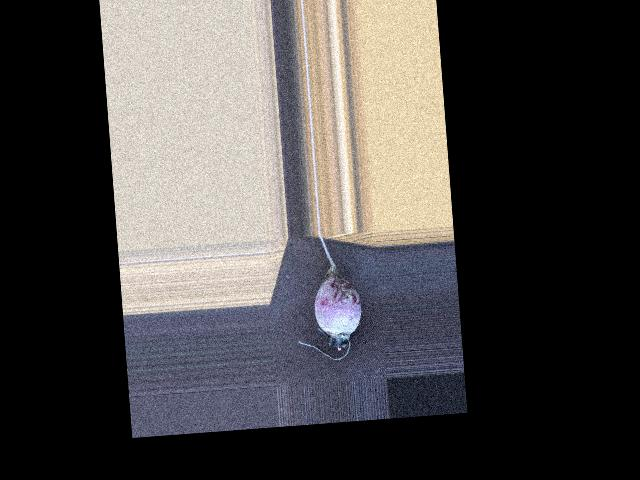beet: (290, 231, 365, 362)
